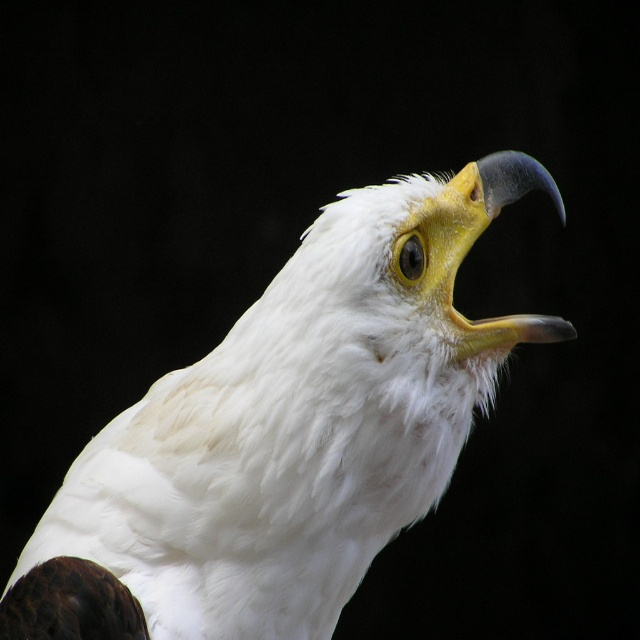Eagle: (0, 145, 579, 621)
